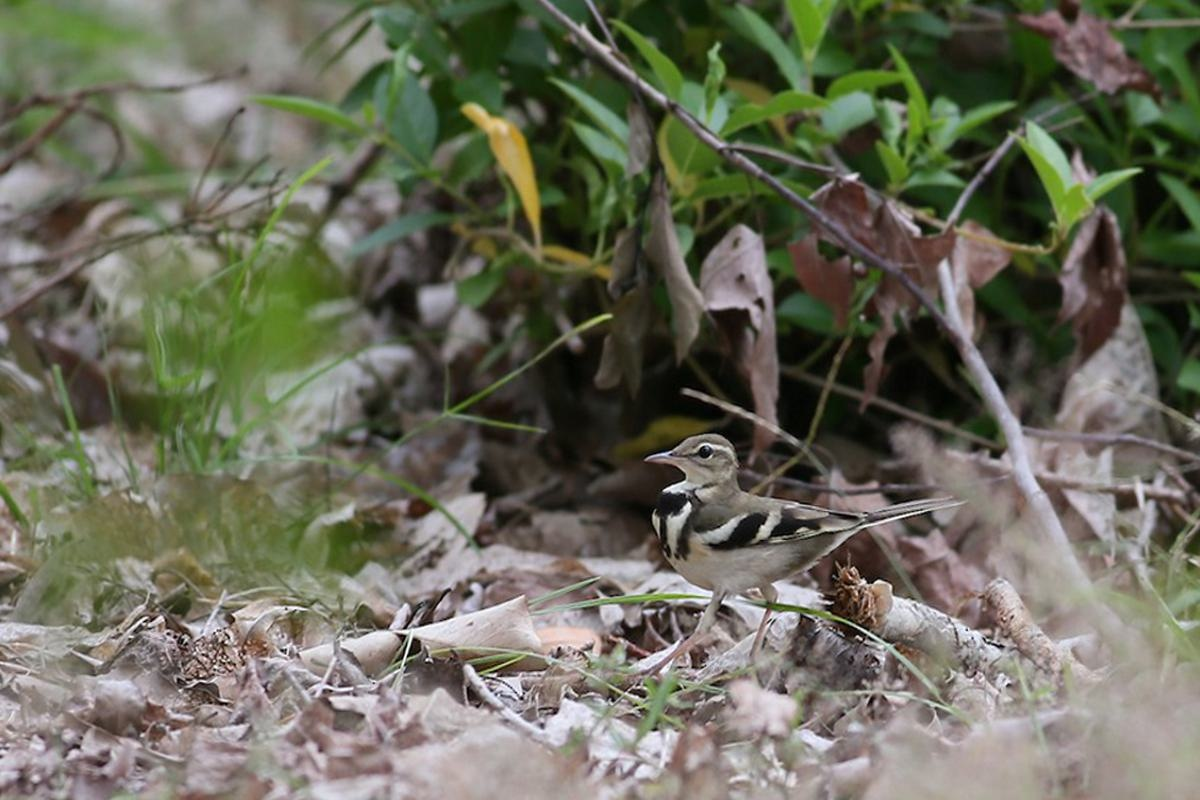wagtail: (620, 418, 953, 645)
